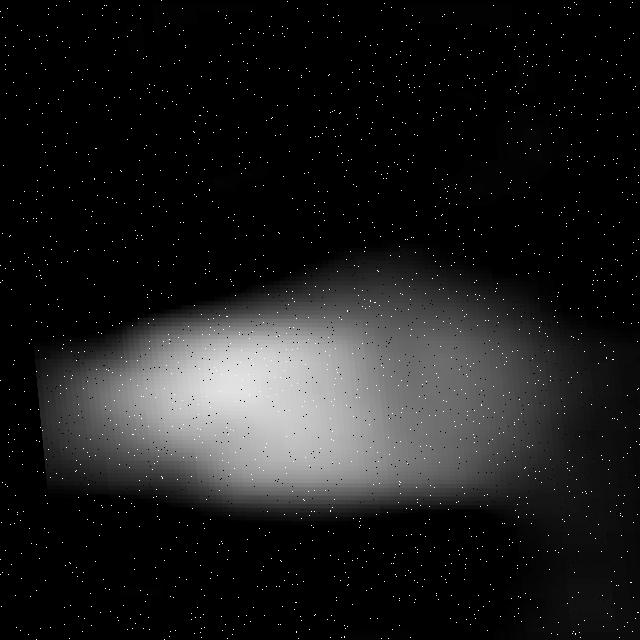person: (51, 277, 578, 522)
